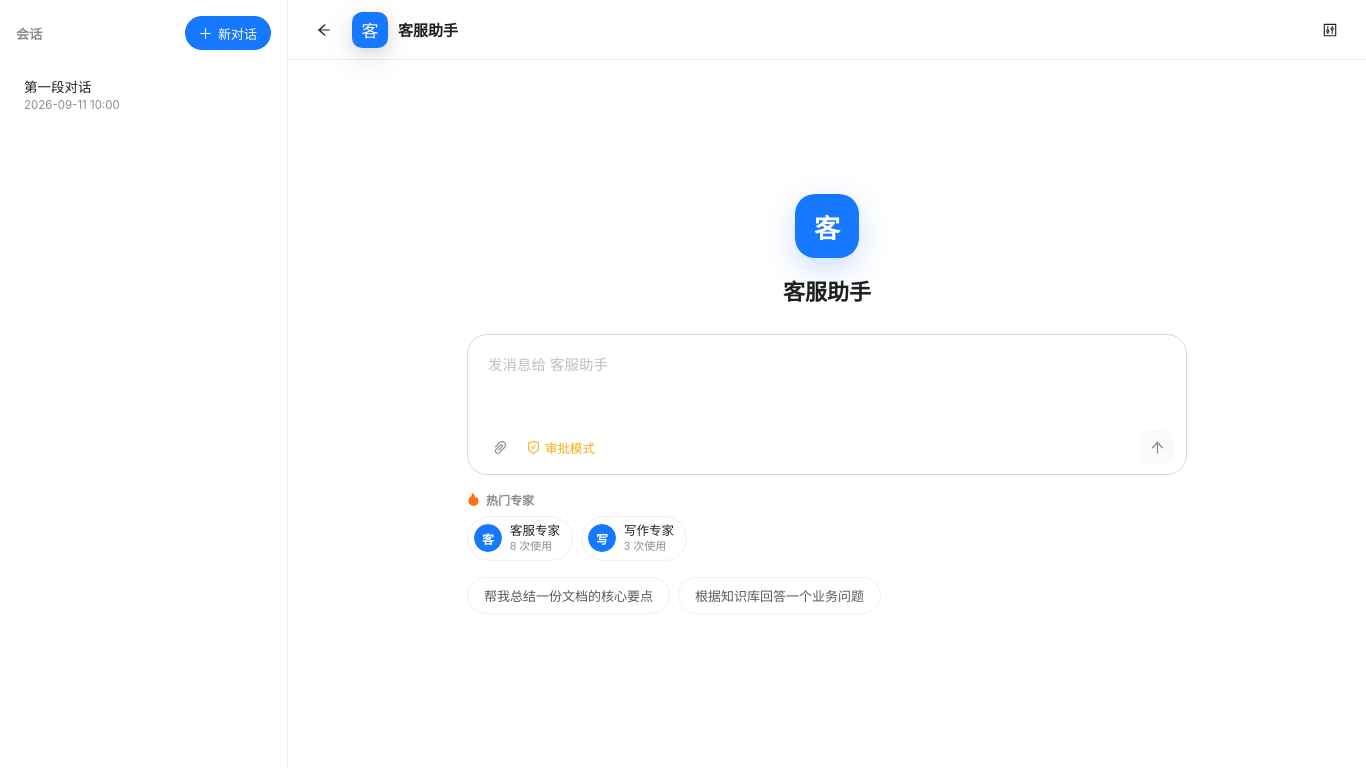
Test case: AppChat（Agent 应用对话页） › 审批模式：知识库检索为豁免工具，不展示审批按钮
Expected: the text "第一段对话" is shown, 24,76 -> 92,96
Type "查一下售后政策" into the text box with placeholder "发消息给 客服助手" at (829, 389), box 484,348 -> 1174,430
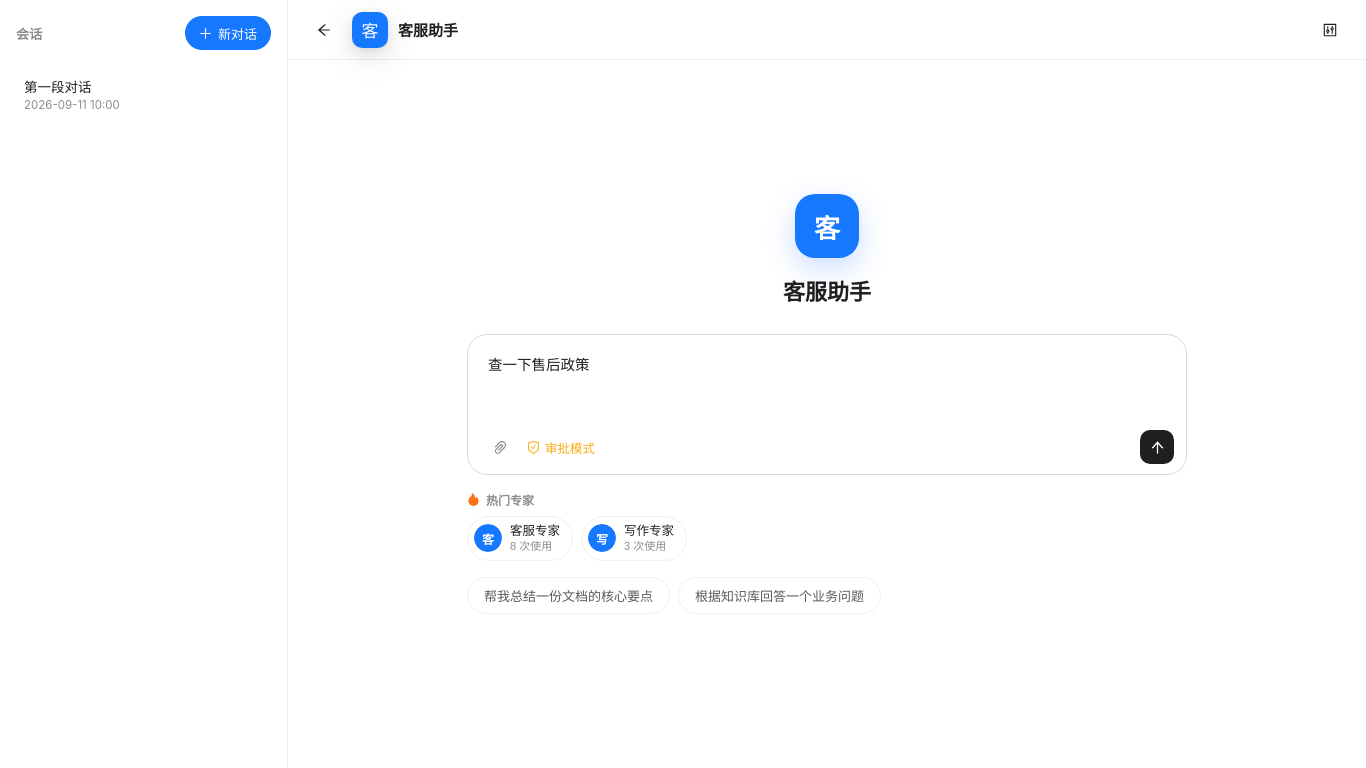
Click the button named "发送" at (1157, 447), box 1140,430 -> 1174,464
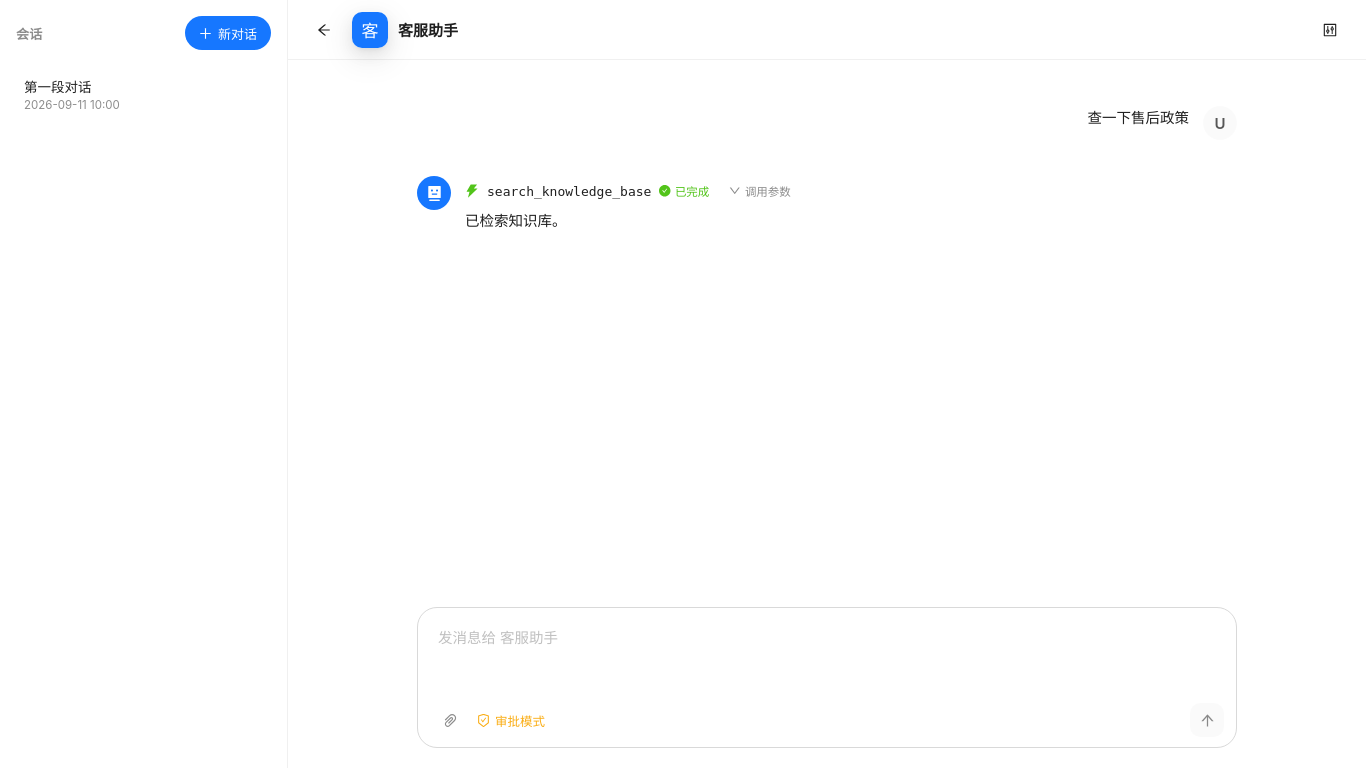
Expected: the text "search_knowledge_base" is shown, 487,184 -> 651,198
Expected: the text "已完成" is shown, 659,183 -> 709,199
